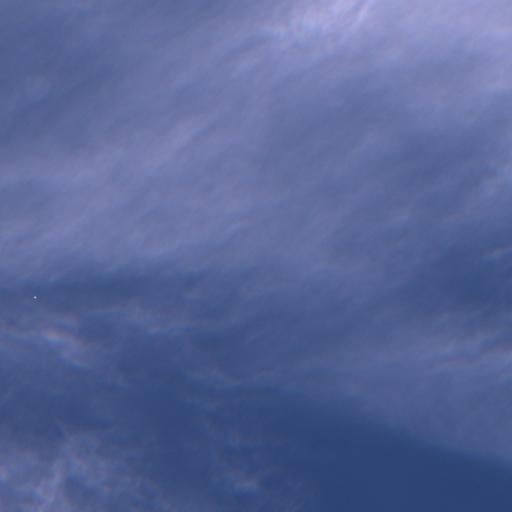Iceberg: (34, 296, 36, 298)
